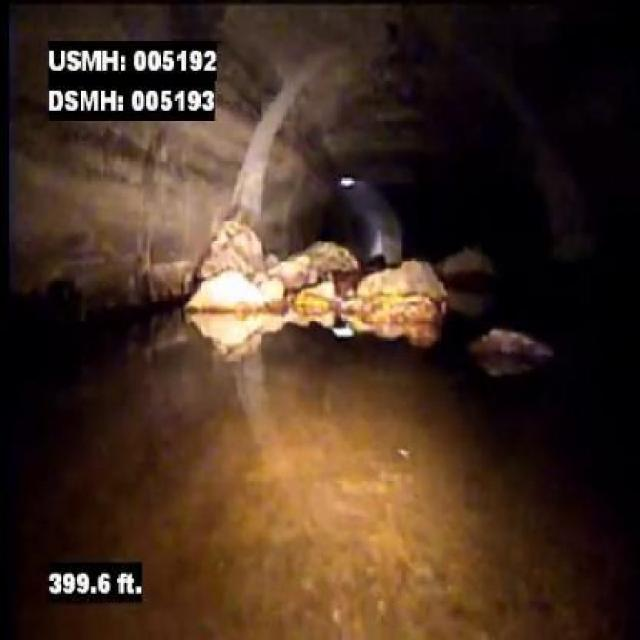Obstacle: (183, 217, 452, 335)
